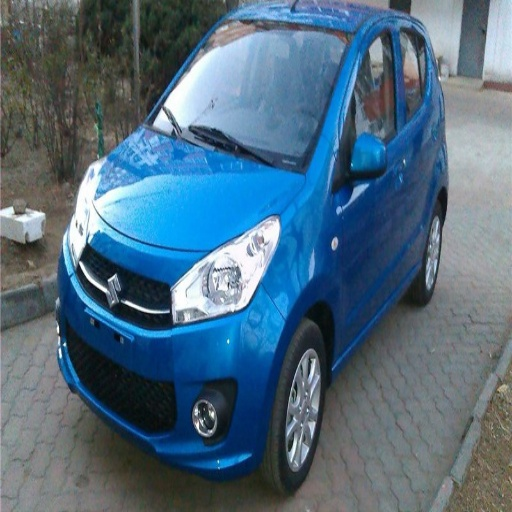front_bumper: (61, 217, 286, 479)
front_glass: (148, 22, 353, 171)
front_left_door: (334, 19, 404, 339)
